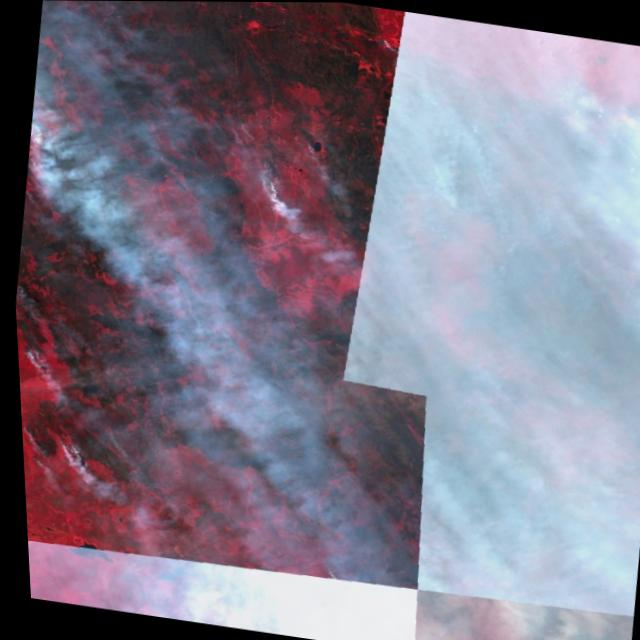fire: (17, 414, 45, 466), (242, 164, 284, 198), (51, 438, 90, 460), (289, 138, 327, 159), (14, 341, 39, 366), (373, 27, 391, 54)
